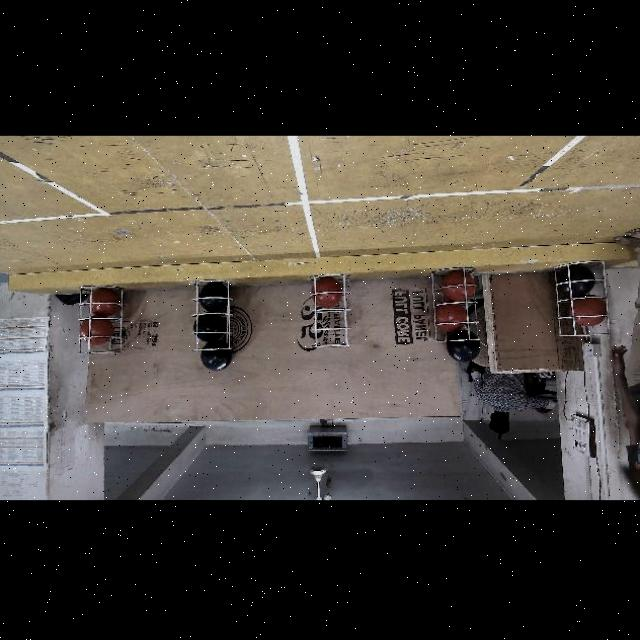P: (446, 330, 482, 362), (560, 266, 594, 298), (201, 341, 233, 372), (200, 285, 230, 313), (196, 312, 224, 340)
R: (570, 295, 608, 325), (444, 269, 474, 301), (312, 277, 342, 307), (90, 288, 120, 316), (81, 318, 112, 344), (438, 304, 466, 332)
S: (552, 256, 616, 344), (431, 262, 484, 346), (75, 282, 128, 358), (308, 270, 354, 354), (189, 278, 237, 356)
